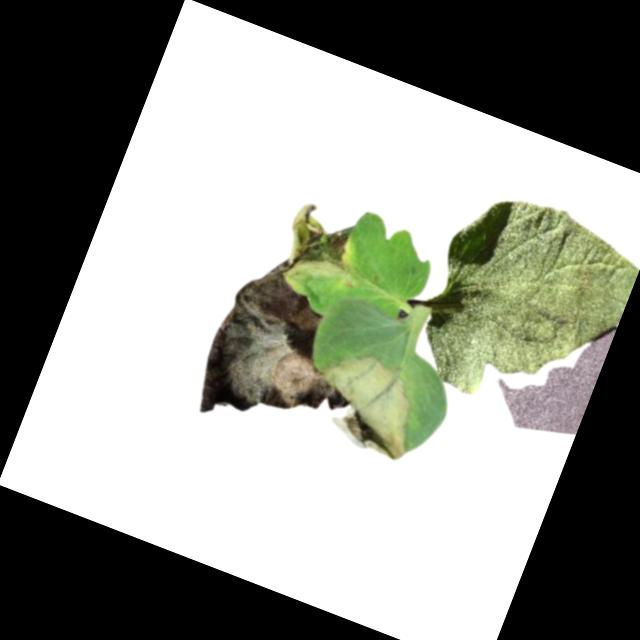Late_blight: (186, 242, 391, 463), (300, 341, 435, 468), (276, 199, 358, 291)
healthy: (401, 175, 640, 434)
